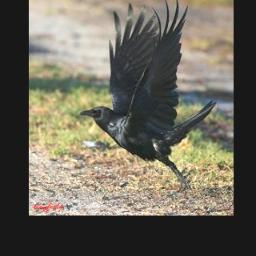Crow: (78, 0, 217, 193)
